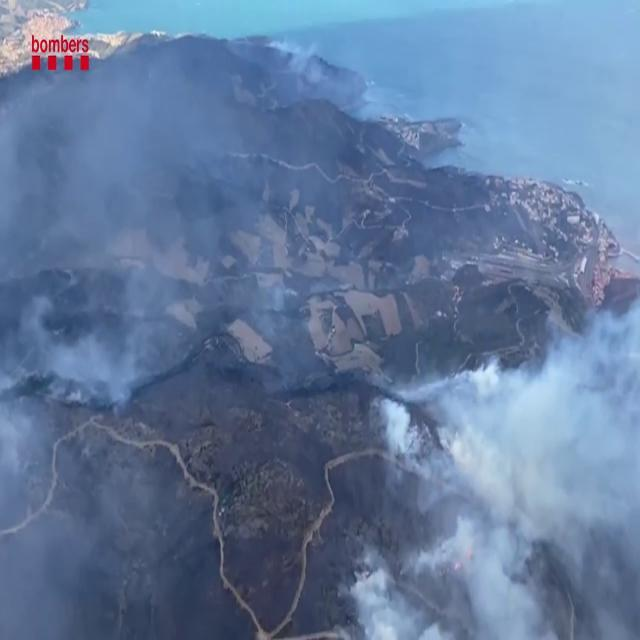Smoke: (0, 8, 256, 410), (395, 308, 638, 639)
